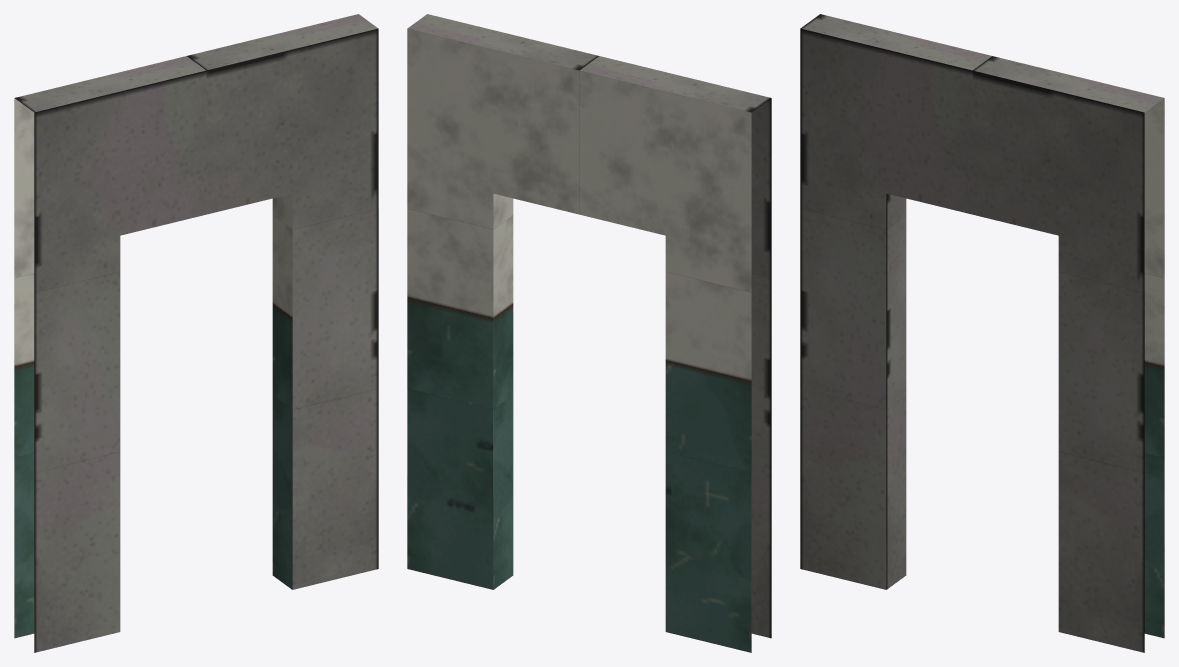
Rendered from wall_doorway_panel.fbx.
3 renders of one model, left to right at view 1: azimuth 30°, elevation 25°; view 2: azimuth 150°, elevation 25°; view 3: azimuth 330°, elevation 25°, orthographic.
Visible parts, largest first — view 1: wall_doorway_panel; view 2: wall_doorway_panel; view 3: wall_doorway_panel.
Boxes of the visible parts, left/top/right/bottom form: wall_doorway_panel: left=14, top=14, right=378, bottom=652; wall_doorway_panel: left=407, top=14, right=771, bottom=652; wall_doorway_panel: left=800, top=14, right=1164, bottom=652.
Size of the model in its own units: 2 by 3 by 0.2.
